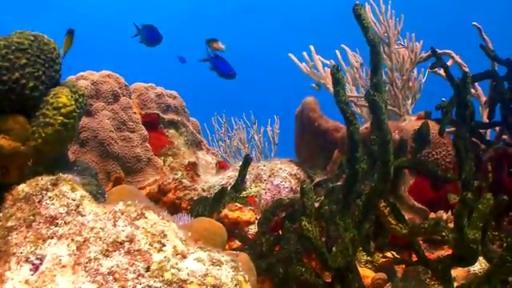Fish: (200, 50, 236, 79), (132, 24, 163, 47), (62, 28, 75, 59), (205, 38, 225, 51), (177, 56, 187, 63), (312, 83, 320, 90)
